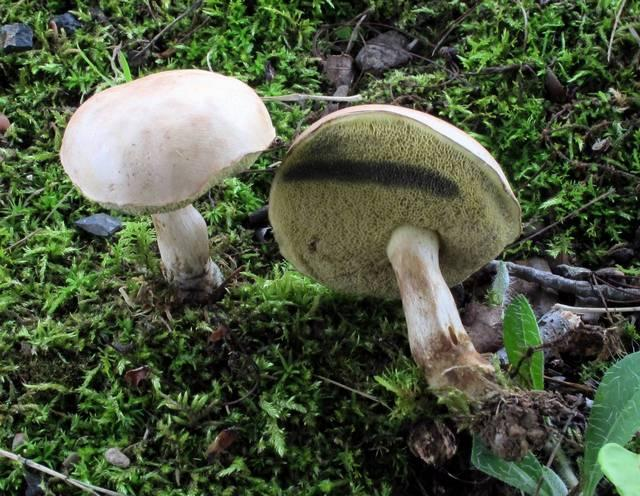edible_mushroom: (266, 101, 524, 409), (58, 67, 276, 303)
